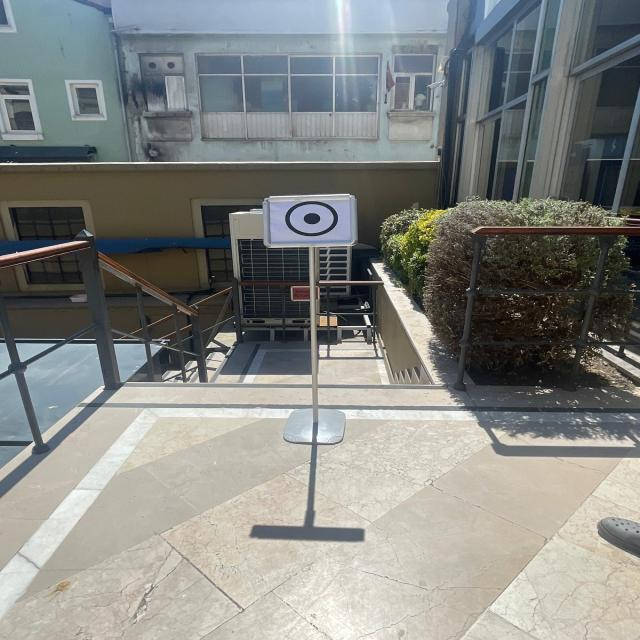Target: (250, 178, 374, 258)
inner: (296, 210, 328, 230)
